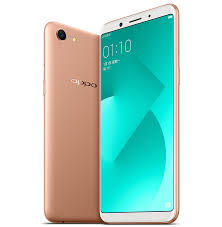oppo: (42, 1, 181, 223), (97, 3, 180, 222), (42, 22, 98, 225)
